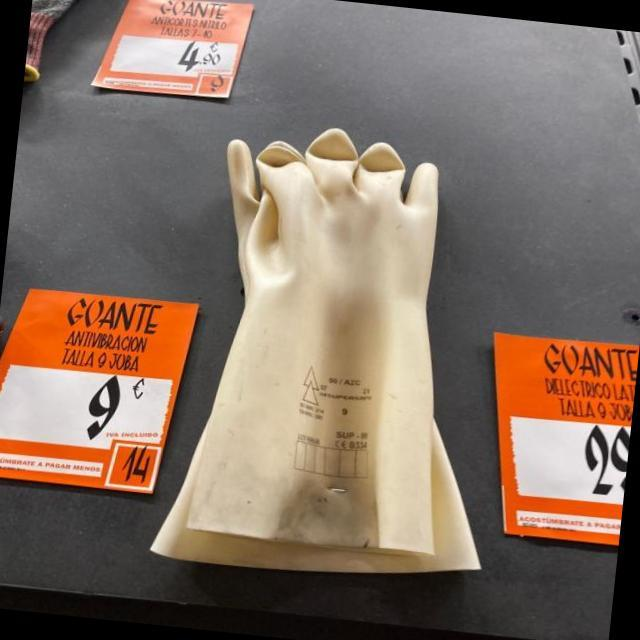glove: (195, 121, 477, 583)
